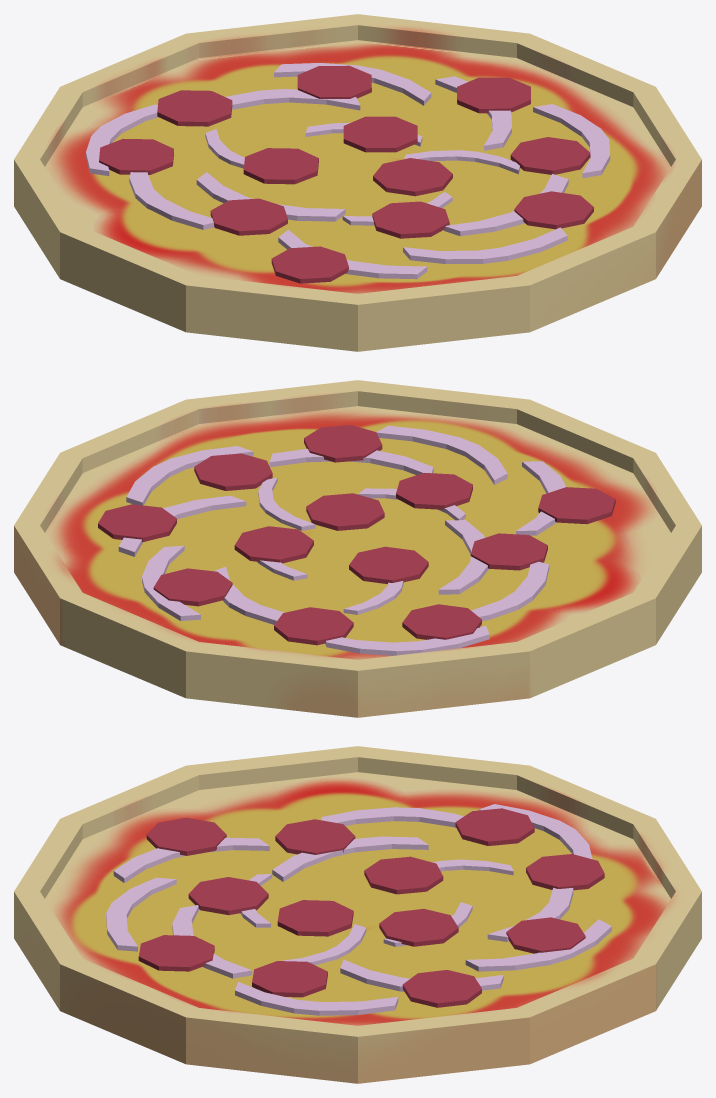
File: RawOnionNPepperoni.fbx
3 renders of one model, top to bottom at view 1: azimuth 30°, elevation 25°; view 2: azimuth 150°, elevation 25°; view 3: azimuth 270°, elevation 25°, orthographic.
Parts seen in each view (by area): view 1: PizzaBase, PepperoniCut, Onions; view 2: PizzaBase, PepperoniCut, Onions; view 3: PizzaBase, PepperoniCut, Onions.
Boxes of the visible parts, x1=… form: PizzaBase: x1=14, y1=14, x2=701, y2=351; PepperoniCut: x1=99, y1=65, x2=593, y2=283; Onions: x1=86, y1=63, x2=610, y2=279; PizzaBase: x1=14, y1=380, x2=701, y2=717; PepperoniCut: x1=98, y1=425, x2=615, y2=645; Onions: x1=118, y1=425, x2=566, y2=655; PizzaBase: x1=14, y1=746, x2=701, y2=1083; PepperoniCut: x1=138, y1=808, x2=604, y2=1007; Onions: x1=106, y1=804, x2=611, y2=1015.
Bounding box in the file's own units: 200 × 15.07 × 200.
3 materials, 1 textured.
